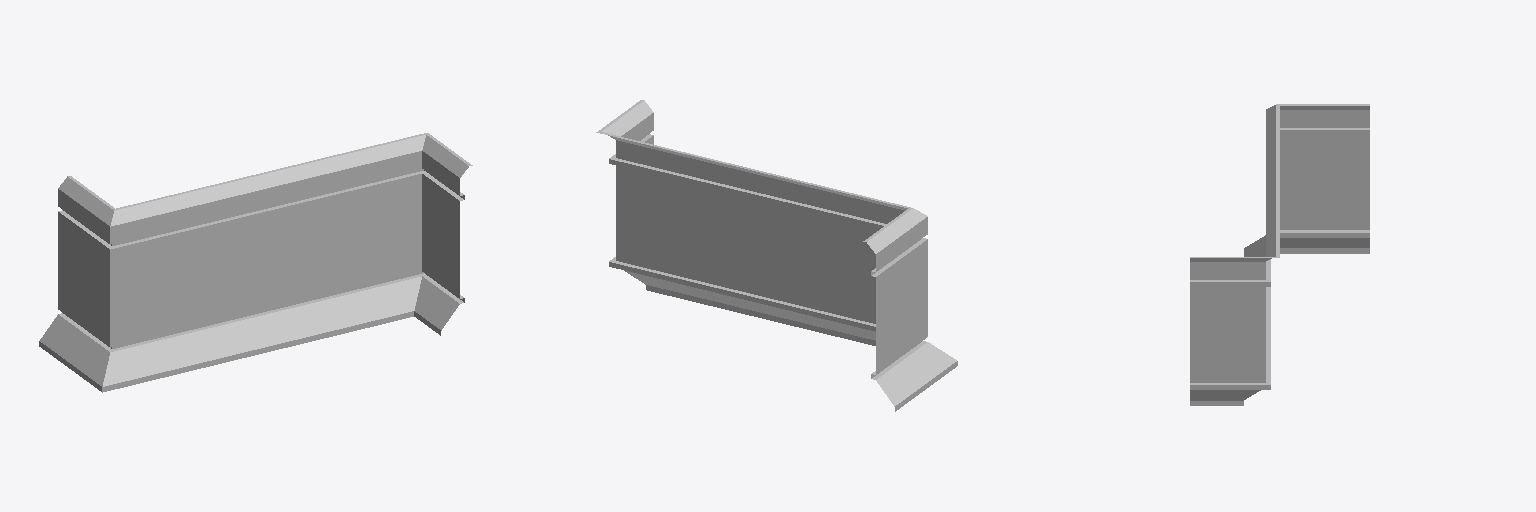
Rendered from skirting.obj.
3 views of the same model, side by side, from view 1: azimuth 30°, elevation 25°; view 2: azimuth 150°, elevation 25°; view 3: azimuth 270°, elevation 25° (orthographic).
Parts seen in each view (by area): view 1: SMB_Straignt, SMB_Convex, SMB_Concave; view 2: SMB_Straignt, SMB_Convex, SMB_Concave; view 3: SMB_Convex, SMB_Concave, SMB_Straignt.
Boxes of the visible parts, x1,y1,x2,y2 form: SMB_Straignt: [194, 152, 367, 365]; SMB_Convex: [39, 176, 211, 392]; SMB_Concave: [350, 133, 472, 335]; SMB_Straignt: [674, 150, 847, 338]; SMB_Convex: [831, 188, 957, 411]; SMB_Concave: [596, 100, 691, 300]; SMB_Convex: [1244, 104, 1369, 256]; SMB_Concave: [1190, 220, 1279, 405]; SMB_Straignt: [1266, 144, 1279, 350].
Bounding box in the file's own units: 0.2794 × 0.127 × 0.127.